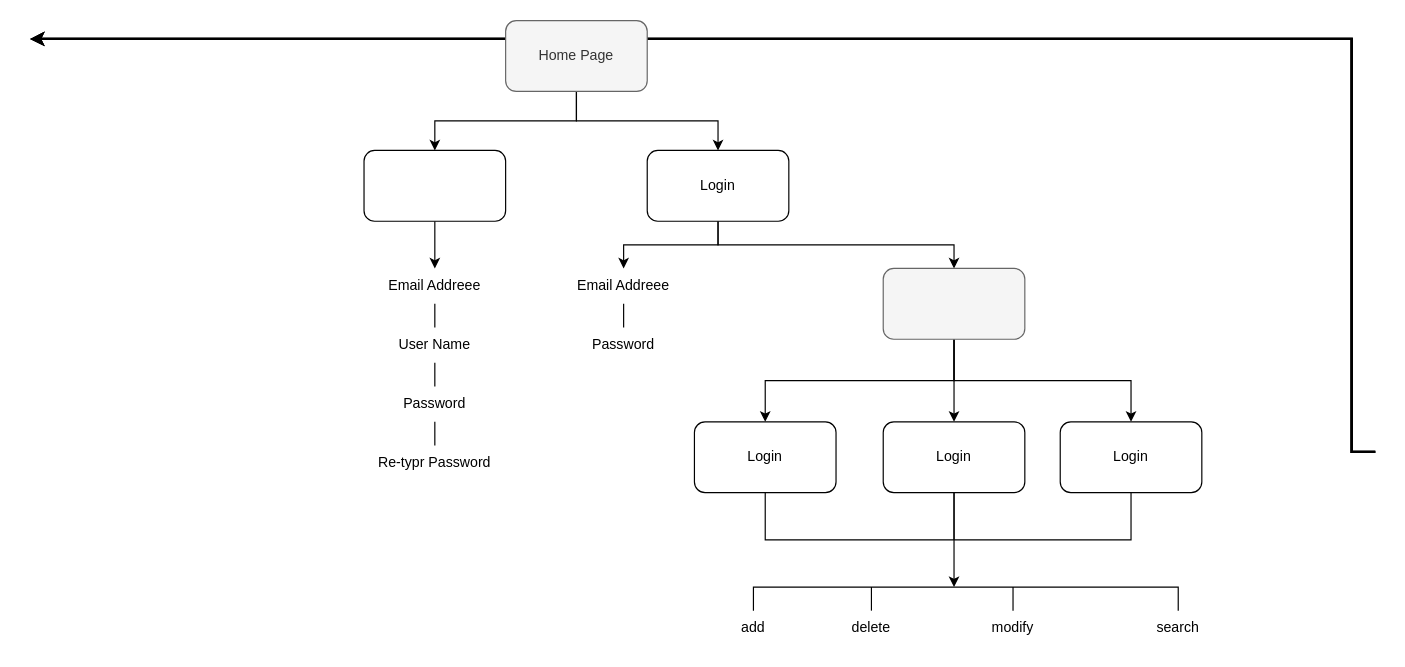
Image size: 1405x667. Some labels were removed from this diagram. The box of each missing label's shape, as (x1, y1, x2, y2) in pixels:
Register: (363, 149, 506, 221)
Tasks List: (882, 267, 1025, 339)
